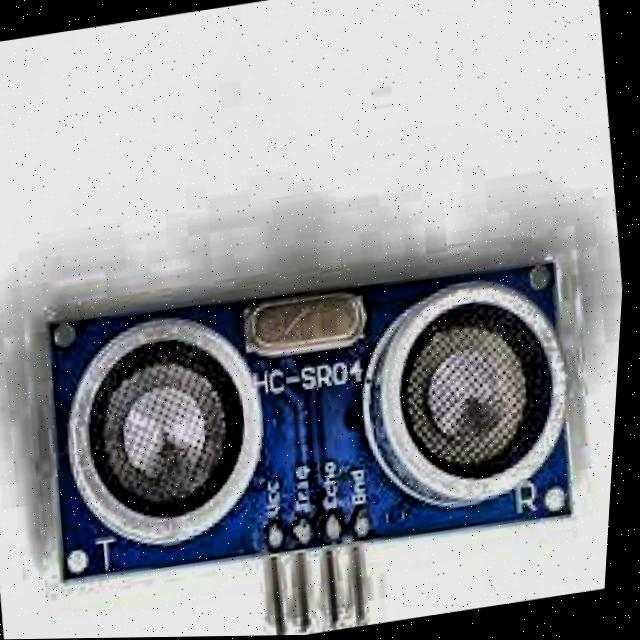Ultrasonic Sensor: (33, 238, 602, 639)
